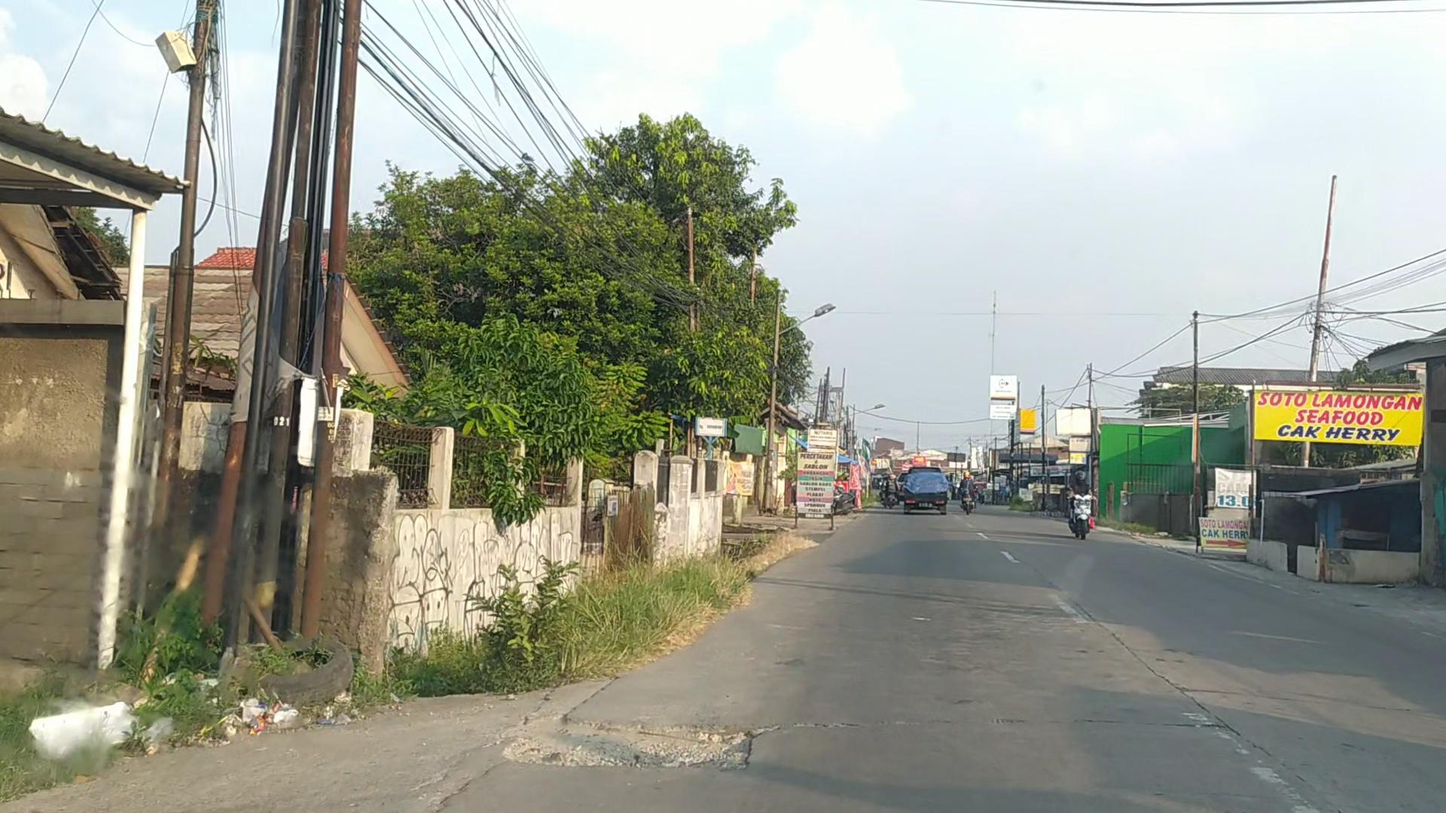pothole: (504, 716, 752, 769)
